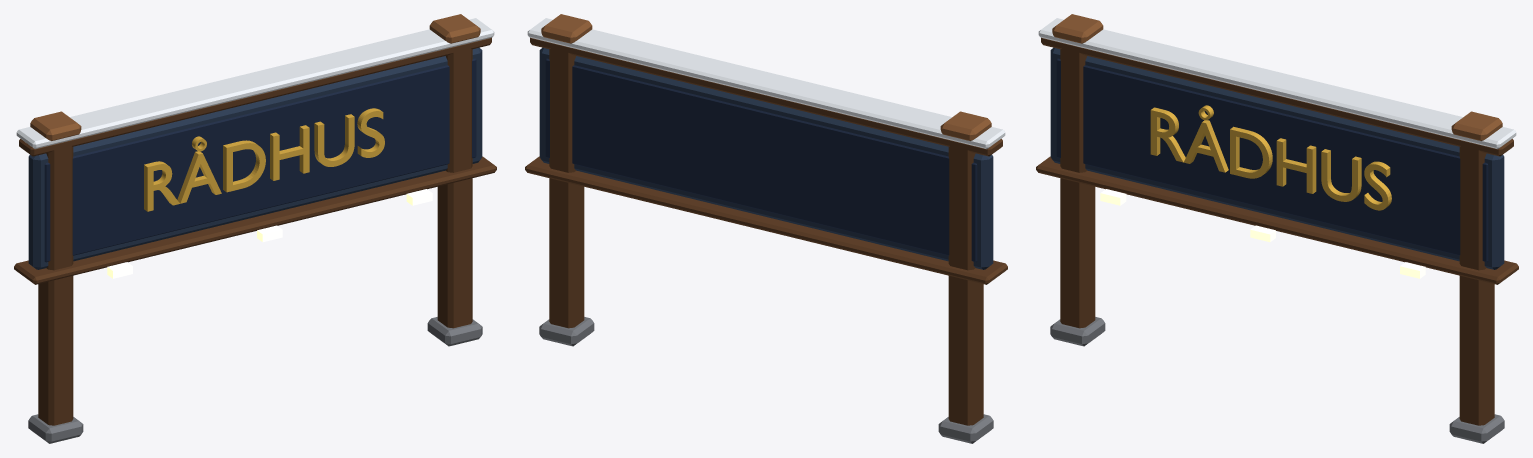
File: radhus_sign.glb
3 views of the same model, side by side, from view 1: azimuth 30°, elevation 25°; view 2: azimuth 150°, elevation 25°; view 3: azimuth 330°, elevation 25° (orthographic).
Visible parts, largest first — view 1: radhus_sign; view 2: radhus_sign; view 3: radhus_sign.
Boxes of the visible parts, x1,y1,x2,y2 form: radhus_sign: (14, 14, 496, 443); radhus_sign: (525, 14, 1007, 443); radhus_sign: (1036, 14, 1518, 443).
Bounding box in the file's own units: 3.72 × 2.4 × 0.39.
